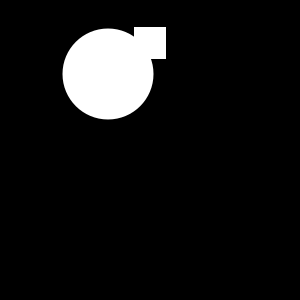circle: (134, 27, 166, 59)
rectangle: (62, 28, 154, 120)
